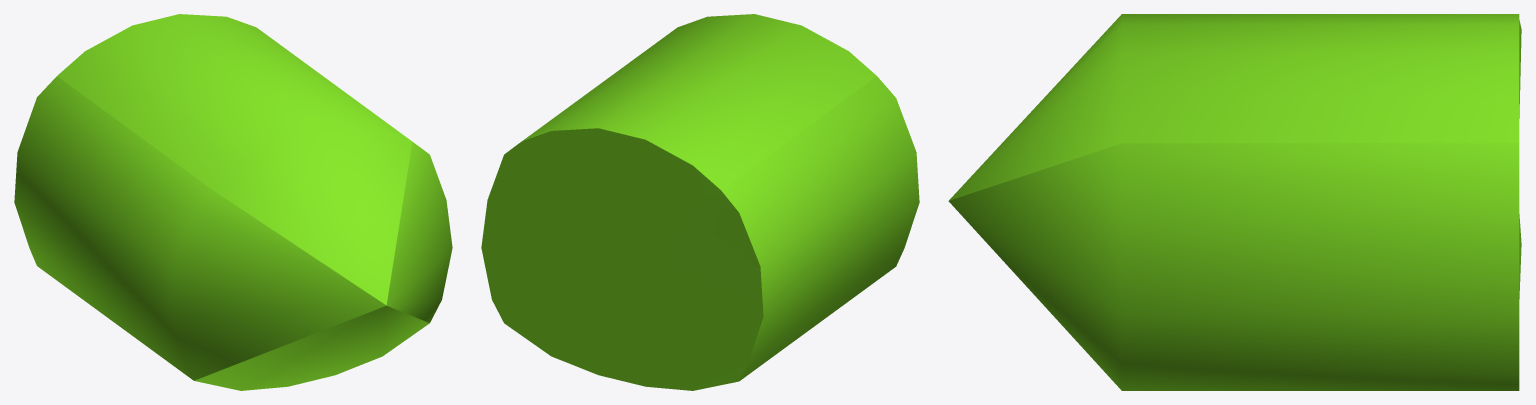
Rendered from bullet2.FBX.
3 renders of one model, left to right at view 1: azimuth 30°, elevation 25°; view 2: azimuth 150°, elevation 25°; view 3: azimuth 270°, elevation 25°, orthographic. The views are drawn at different scales.
Parts seen in each view (by area): view 1: Box002; view 2: Box002; view 3: Box002.
Boxes of the visible parts, bbox=[...] form: Box002: bbox=[14, 14, 452, 390]; Box002: bbox=[481, 14, 919, 390]; Box002: bbox=[948, 14, 1521, 390].
Size of the model in its own units: 8.29 by 6.94 by 11.45.
